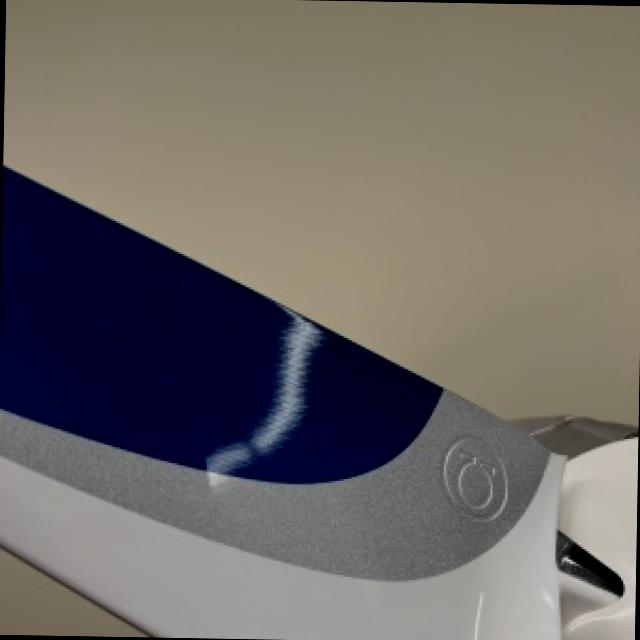healthy: (0, 167, 561, 640)
